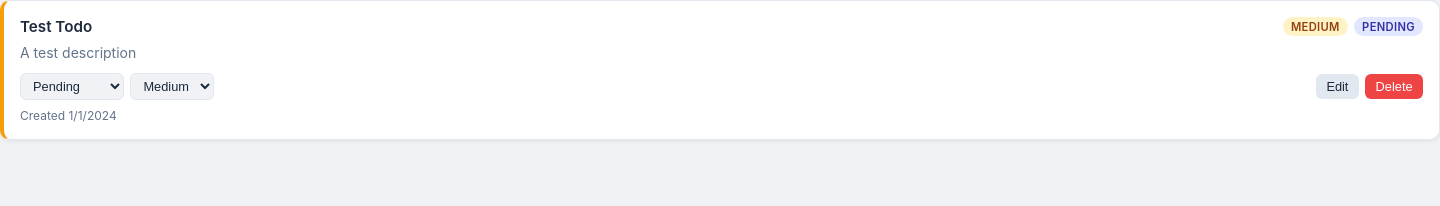
Test: TodoItem — edit mode › cancels edit mode on Cancel
Click the button "Edit".
click(1337, 86)  # box [1316,74,1359,99]
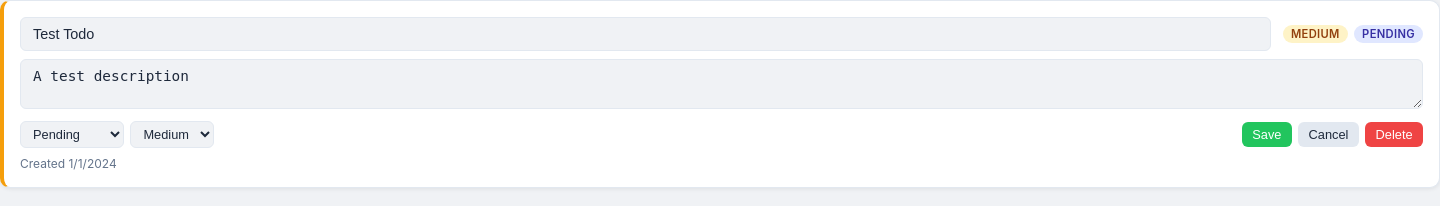
Click the button "Cancel".
click(1328, 134)  # box [1298,122,1359,147]
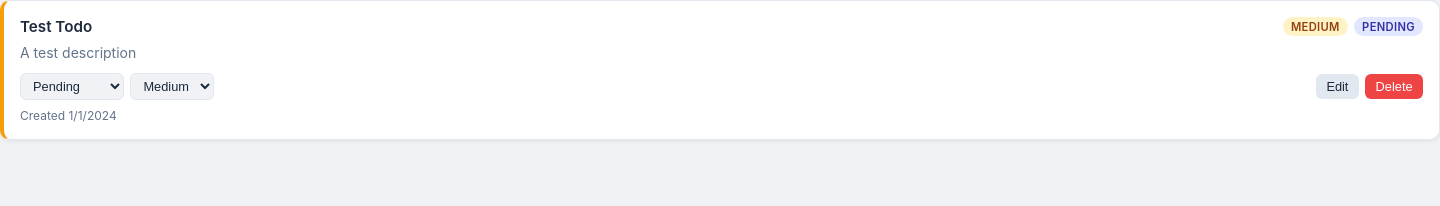
Expected: the text "Test Todo" is shown, [20,17,92,36]
